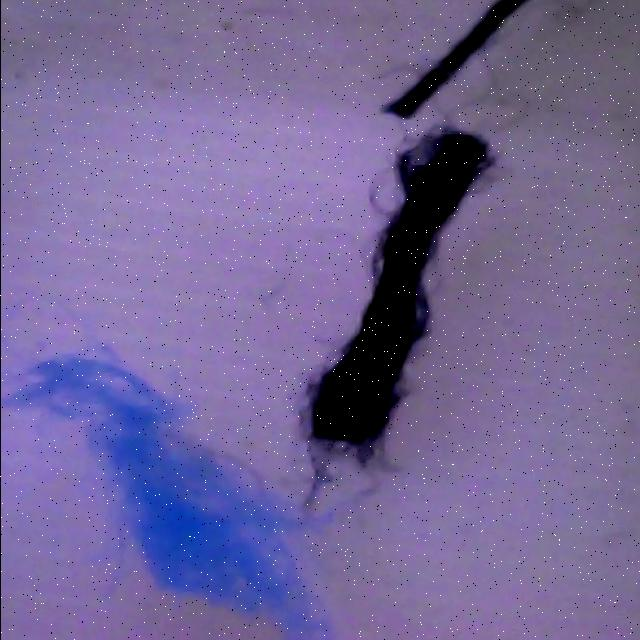Fibre: (378, 0, 636, 125)
